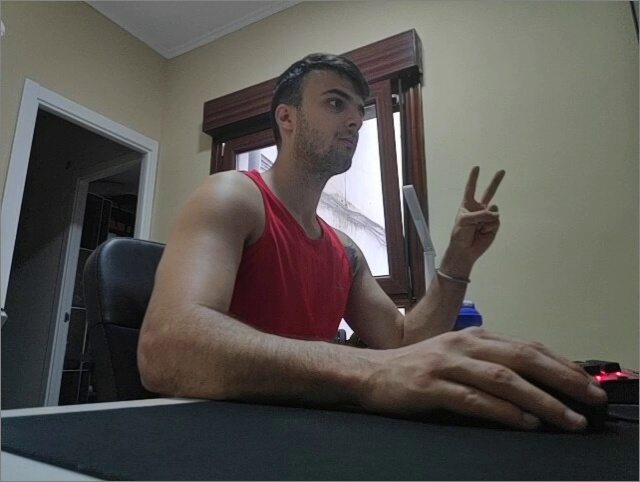Peace: (449, 164, 505, 248)
